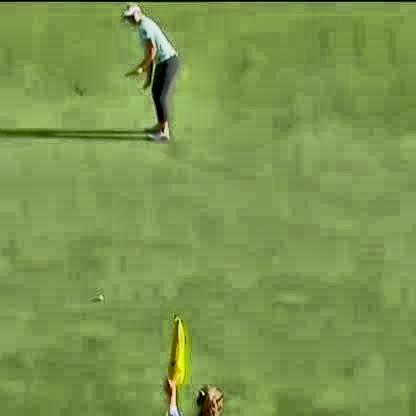golfball: (96, 290, 101, 297)
